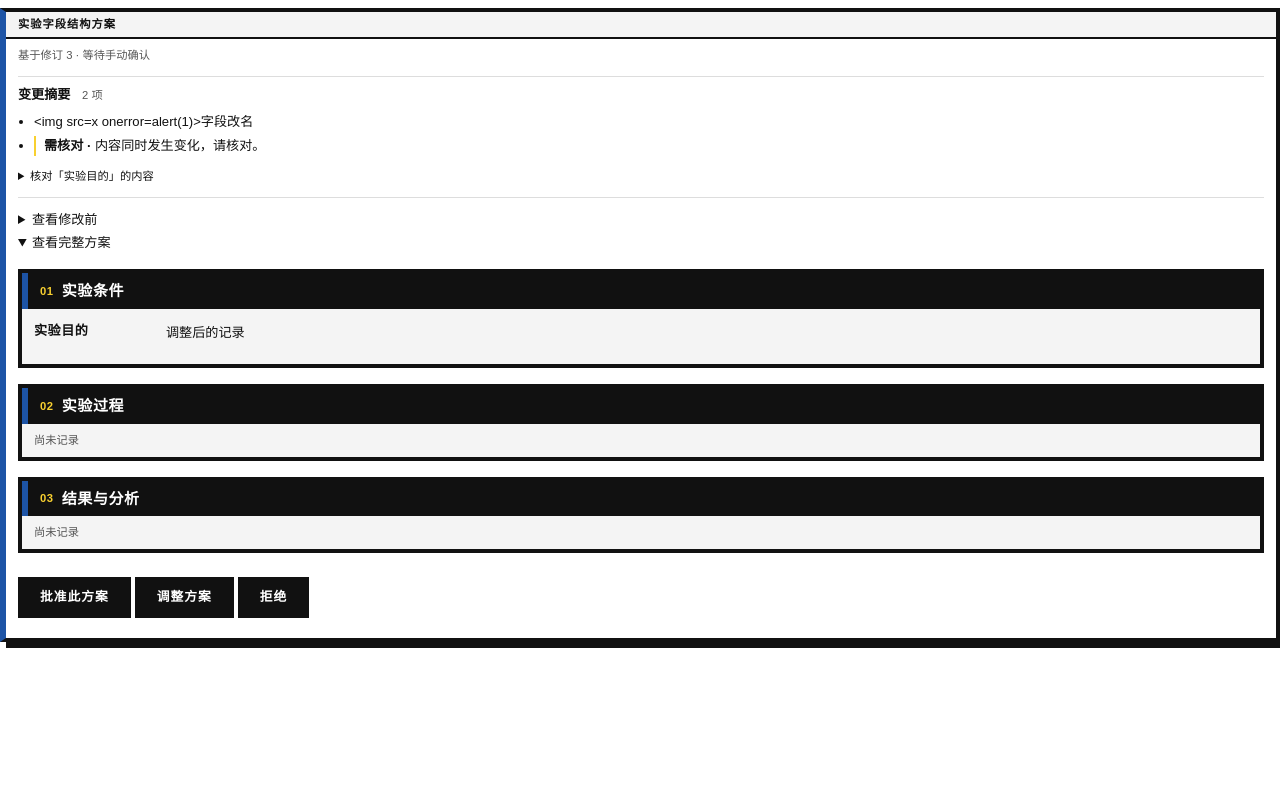
Test case: 展示服务端摘要，按字段核对变更内容，批准仍绑定服务端哈希和版本
Expected: the list item "<img src=x onerror=alert(1)>字段改名" is shown, x1=34 y1=114 x2=253 y2=129
Expected: the text "原始记录" is not shown
Click the heading "核对「实验目的」的内容".
click(92, 176)  # box x1=30 y1=170 x2=154 y2=182
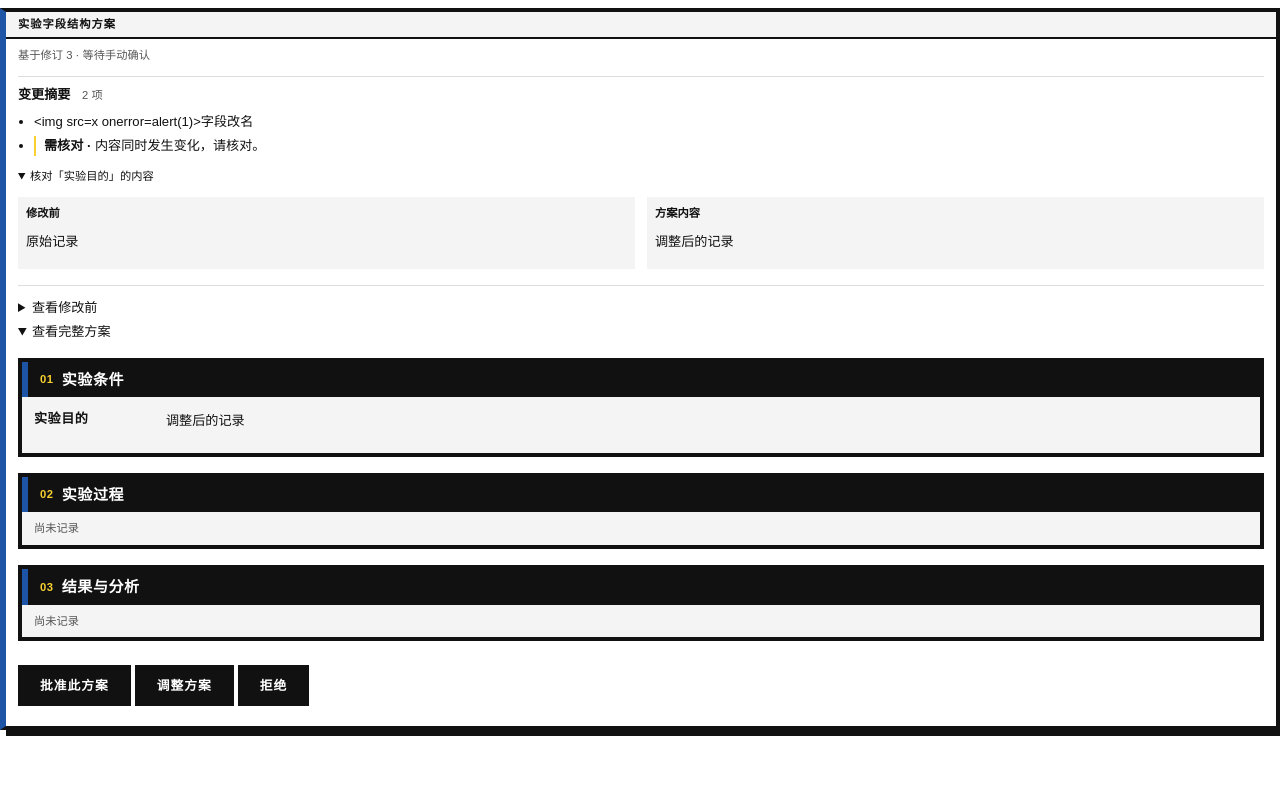
Expected: the number of elements with class "record-change-review" is 1, x1=18 y1=164 x2=1264 y2=269
Expected: the text "原始记录" is shown, x1=26 y1=234 x2=78 y2=249
Expected: the text "调整后的记录" below "方案内容" is shown, x1=655 y1=234 x2=734 y2=249
Click the button "批准此方案".
click(74, 686)  # box x1=18 y1=665 x2=131 y2=706
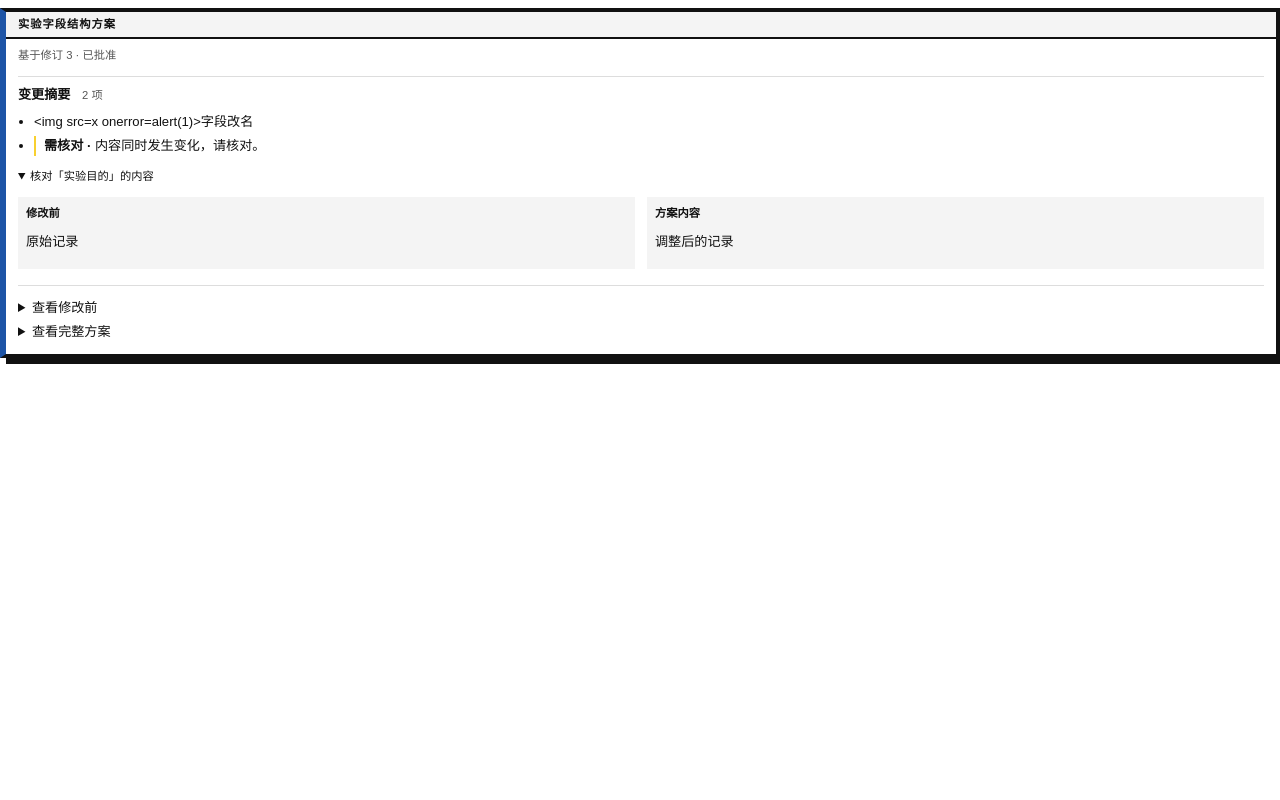
Expected: the text "基于修订 3 · 已批准" is shown, x1=18 y1=49 x2=116 y2=61
